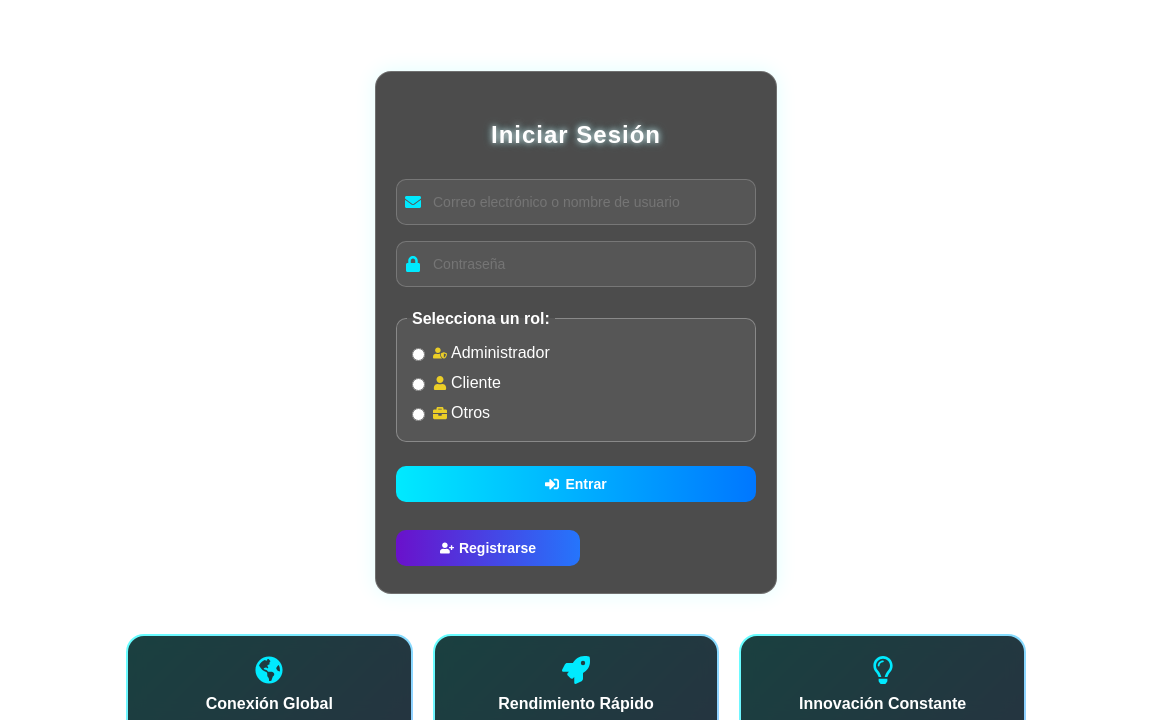
Test case: Login Component › muestra error si no se selecciona un rol
In the field with placeholder "Correo electrónico o nombre de usuario": (587, 202) [427,188,747,216], type "user@demo.com"
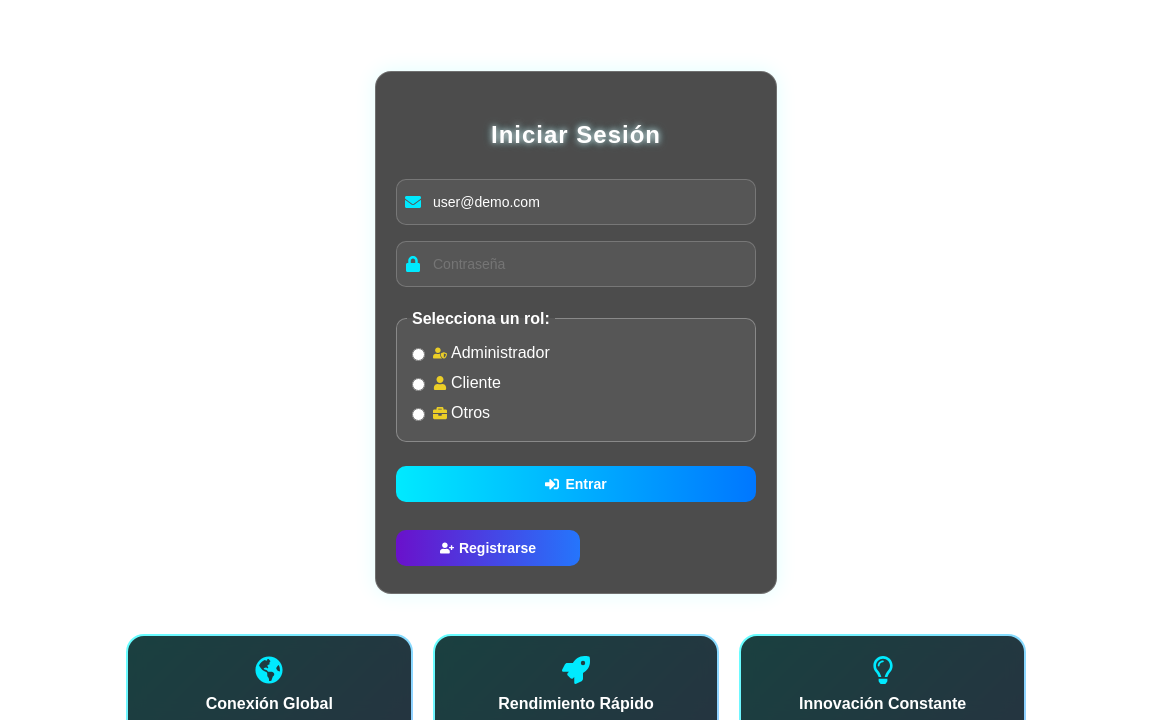
In the password field with placeholder "Contraseña": (587, 264) [427,250,747,278], type "123456"
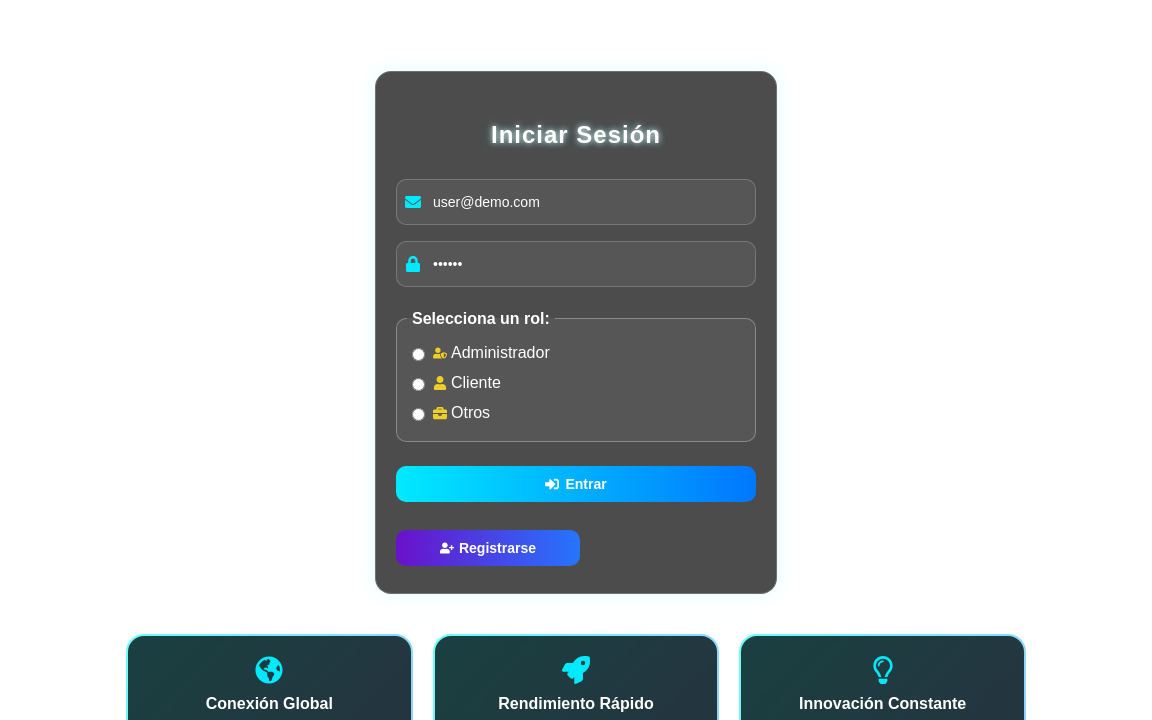
Click the button "Entrar": (576, 484) [396,466,756,502]
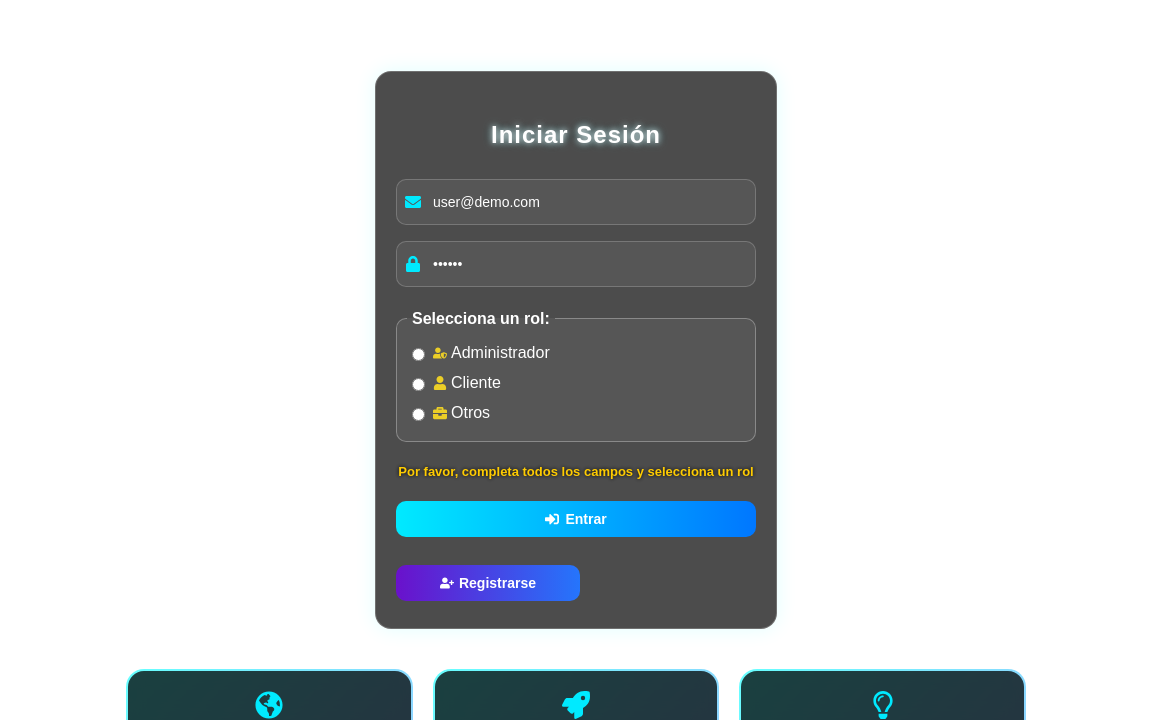
Now the text "Por favor, completa todos los campos y selecciona un rol" is shown, box [396,462,756,481]
